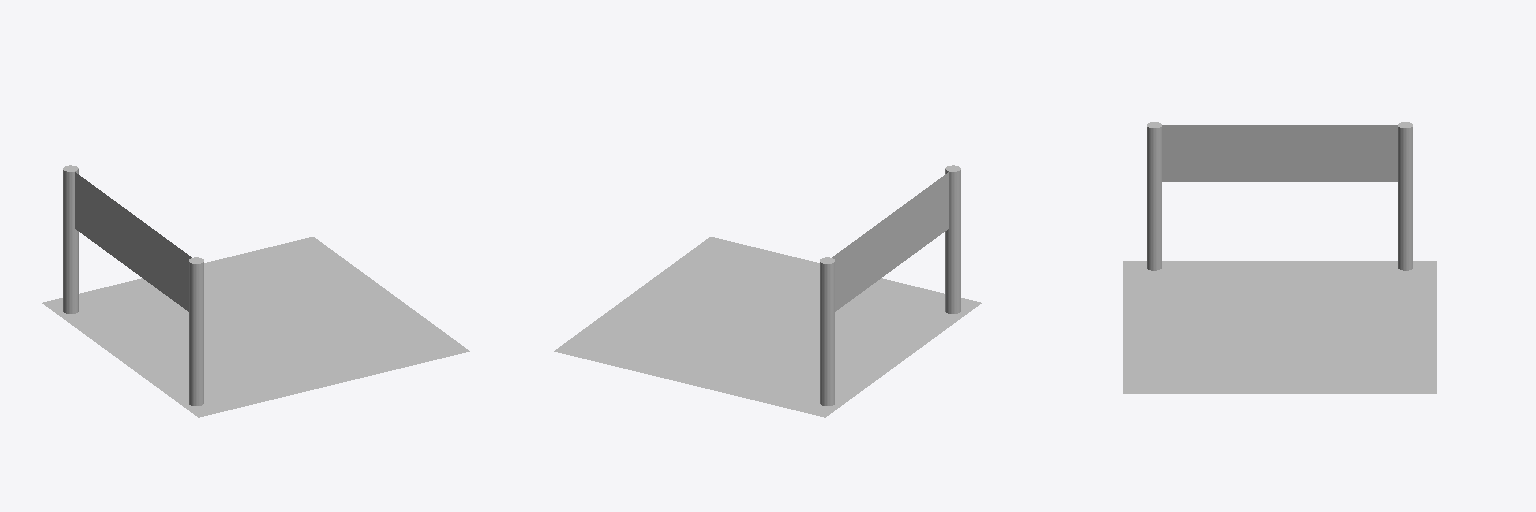
The model's file is track_finish.obj.
3 views of the same model, side by side, from view 1: azimuth 30°, elevation 25°; view 2: azimuth 150°, elevation 25°; view 3: azimuth 270°, elevation 25° (orthographic).
Visible parts, largest first — view 1: road_Plane.007, Grass_Plane, flag_Plane.011, finish_line_Plane.010, pole2_Cylinder.003, pole1_Cylinder.001; view 2: road_Plane.007, Grass_Plane, flag_Plane.011, finish_line_Plane.010, pole1_Cylinder.001, pole2_Cylinder.003; view 3: road_Plane.007, Grass_Plane, flag_Plane.011, finish_line_Plane.010, pole2_Cylinder.003, pole1_Cylinder.001.
Part boxes in pixels (left/top/right/bottom): road_Plane.007: left=101, top=260, right=438, bottom=385; Grass_Plane: left=42, top=237, right=469, bottom=417; flag_Plane.011: left=75, top=172, right=191, bottom=311; finish_line_Plane.010: left=74, top=319, right=188, bottom=394; pole2_Cylinder.003: left=189, top=257, right=203, bottom=405; pole1_Cylinder.001: left=63, top=165, right=78, bottom=313; road_Plane.007: left=585, top=260, right=922, bottom=385; Grass_Plane: left=554, top=237, right=981, bottom=417; flag_Plane.011: left=832, top=172, right=948, bottom=311; finish_line_Plane.010: left=835, top=319, right=949, bottom=394; pole1_Cylinder.001: left=820, top=257, right=834, bottom=405; pole2_Cylinder.003: left=945, top=165, right=960, bottom=313; road_Plane.007: left=1186, top=274, right=1373, bottom=392; Grass_Plane: left=1123, top=261, right=1436, bottom=393; flag_Plane.011: left=1162, top=125, right=1397, bottom=181; finish_line_Plane.010: left=1186, top=261, right=1373, bottom=273; pole2_Cylinder.003: left=1147, top=122, right=1161, bottom=270; pole1_Cylinder.001: left=1398, top=122, right=1412, bottom=270.
Bounding box in the file's own units: 10 × 5 × 10.